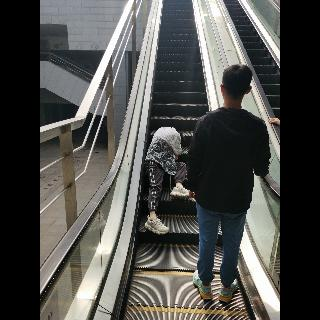anomaly: (144, 125, 188, 235)
normal: (186, 64, 270, 304)
